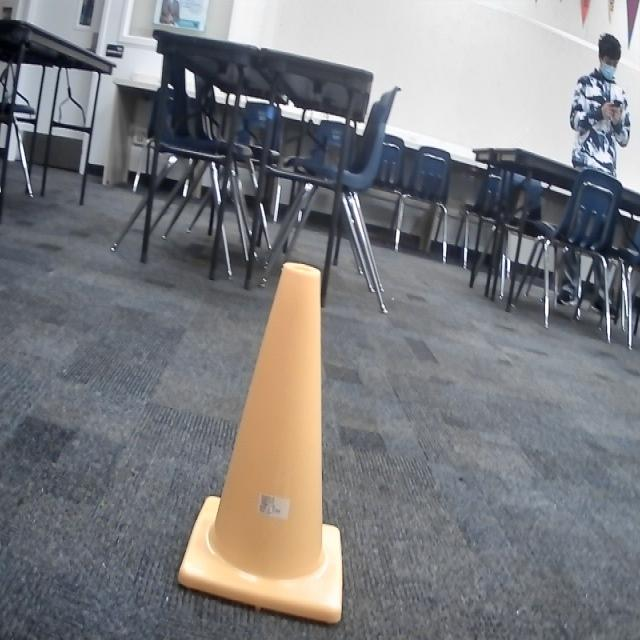cone: (175, 259, 344, 625)
